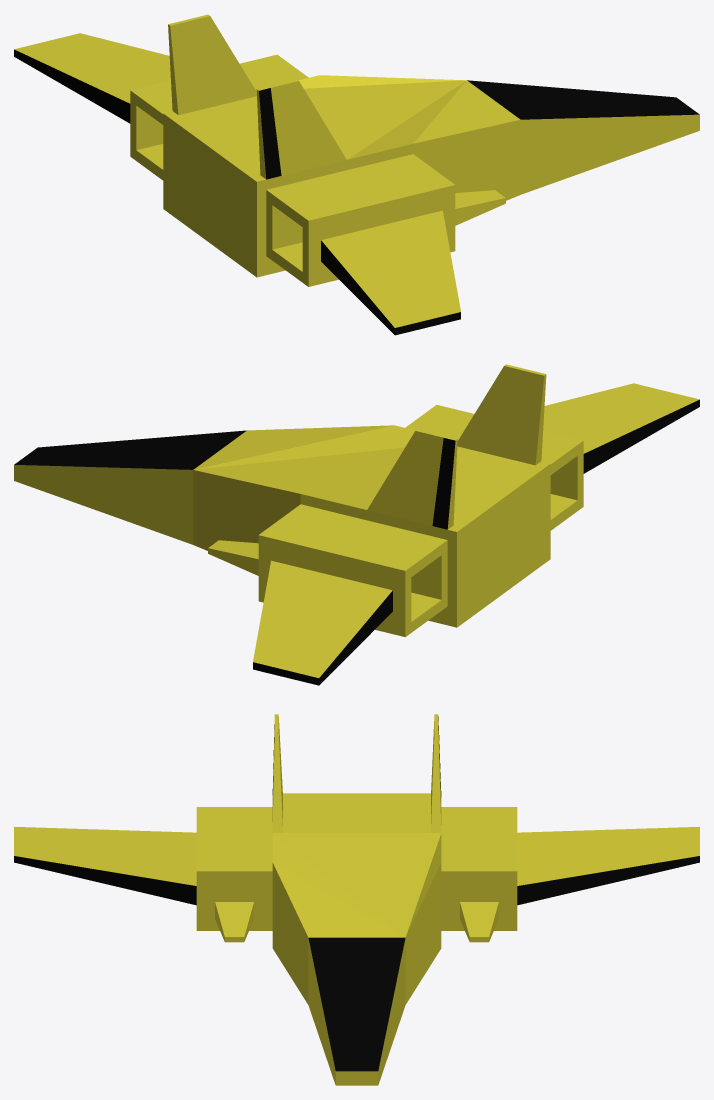
Rendered from B_Spaceship_5_Yellow.fbx.
The picture shows the model from 3 angles, top to bottom: view 1: azimuth 30°, elevation 25°; view 2: azimuth 150°, elevation 25°; view 3: azimuth 270°, elevation 25°; orthographic projection. The views are drawn at different scales.
Visible parts, largest first — view 1: pCube1; view 2: pCube1; view 3: pCube1.
Part boxes in pixels (<box>): pCube1: <box>14,14,699,335</box>; pCube1: <box>14,364,699,685</box>; pCube1: <box>14,714,699,1085</box>.
Bounding box in the file's own units: 0.0529 × 0.0722 × 0.0195.
